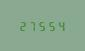five: (38, 20, 47, 31), (48, 20, 57, 31)
four: (58, 20, 67, 31)
seven: (28, 20, 37, 31)
two: (18, 20, 27, 31)
